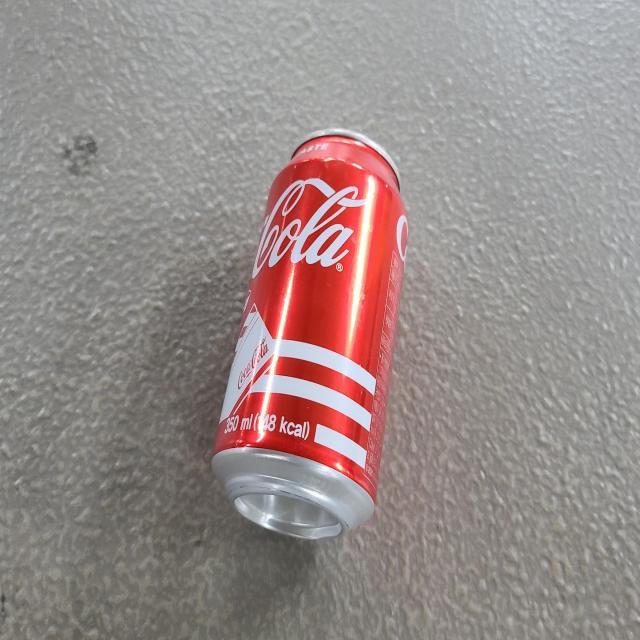can: (212, 129, 409, 539)
